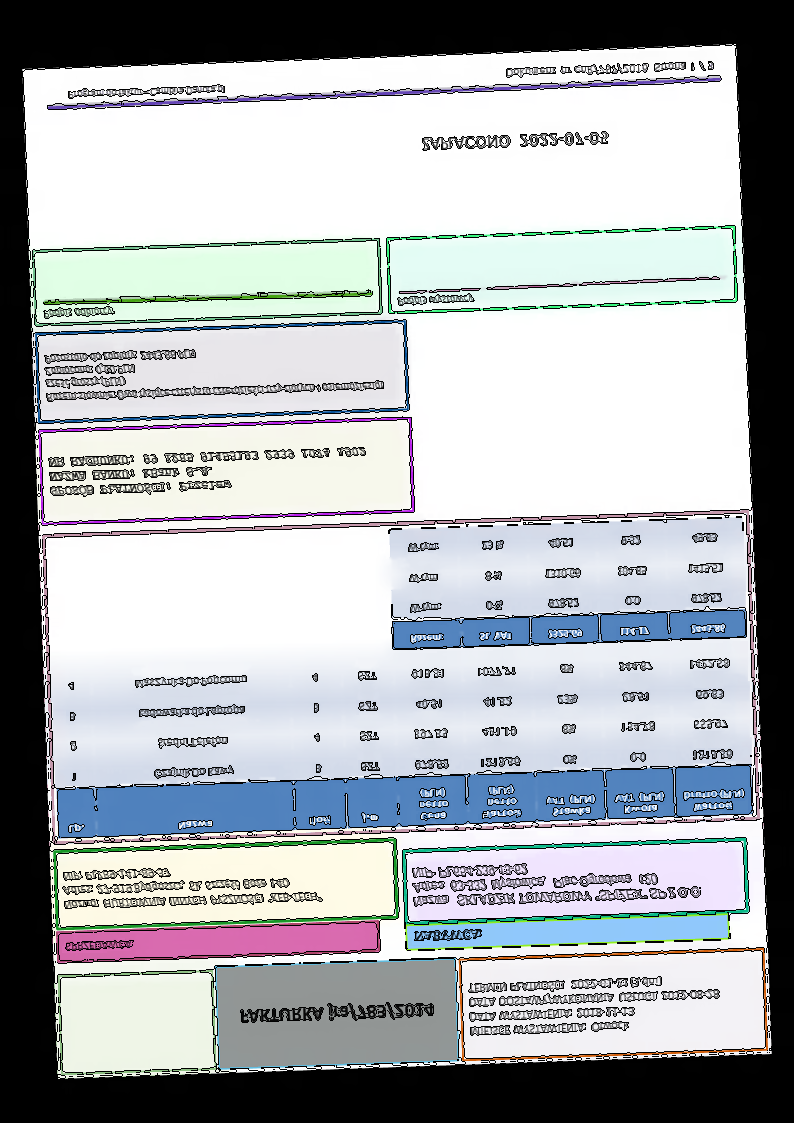Table: (50, 642, 754, 841), (388, 517, 746, 652)
TextBox: (42, 339, 387, 406), (47, 442, 368, 501), (466, 971, 724, 1040), (408, 852, 703, 912), (60, 857, 323, 914), (236, 999, 437, 1028), (418, 129, 609, 155), (504, 58, 716, 81), (65, 82, 228, 103), (394, 290, 476, 310), (41, 303, 116, 323), (61, 936, 135, 956), (411, 926, 484, 945)
